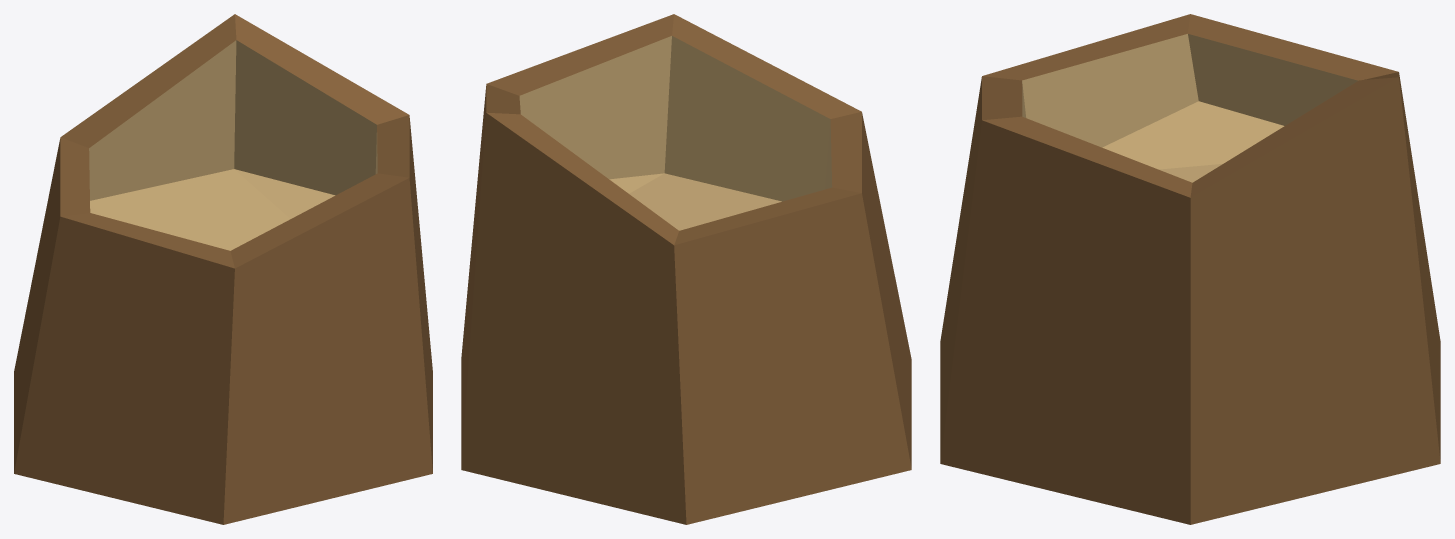
Rendered from Stump_3_3.fbx.
3 views of the same model, side by side, from view 1: azimuth 30°, elevation 25°; view 2: azimuth 150°, elevation 25°; view 3: azimuth 270°, elevation 25° (orthographic). The views are drawn at different scales.
Parts seen in each view (by area): view 1: Stump_3_3; view 2: Stump_3_3; view 3: Stump_3_3.
Part boxes in pixels (box(x1,y1,x2,y2)): Stump_3_3: box(14, 14, 432, 524); Stump_3_3: box(461, 14, 911, 524); Stump_3_3: box(940, 14, 1440, 524).
Bounding box in the file's own units: 32.92 × 24.09 × 28.51.
